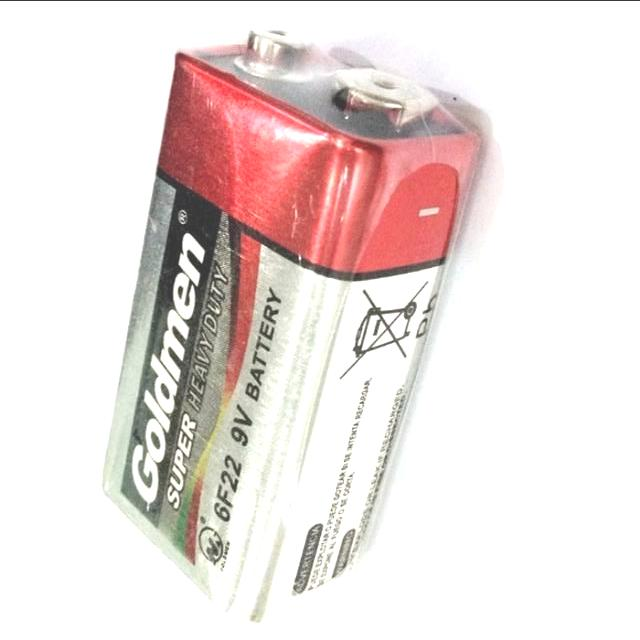9V: (49, 8, 518, 640)
